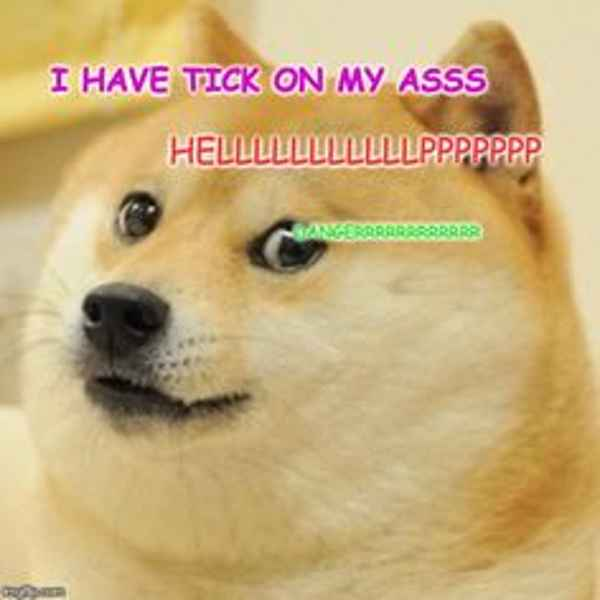doge: (23, 13, 563, 533)
